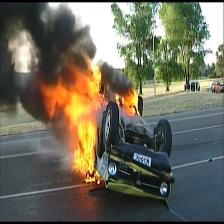fire: (36, 48, 153, 190)
smoke: (0, 0, 106, 74), (2, 8, 55, 129)
